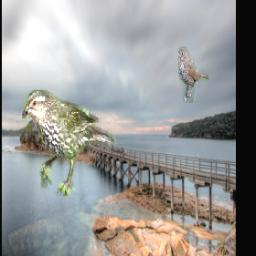Sparrow: (21, 90, 115, 196), (178, 48, 209, 104)
